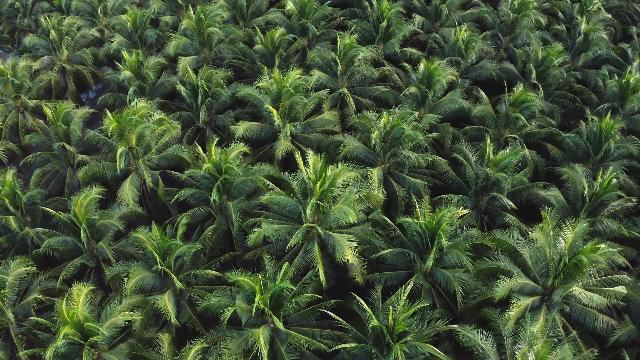trees: (453, 207, 637, 359), (239, 154, 383, 298), (107, 222, 237, 350), (195, 260, 347, 360), (538, 112, 640, 231), (379, 203, 480, 323), (233, 63, 342, 173), (85, 98, 189, 213), (338, 109, 438, 226), (168, 144, 279, 249), (427, 134, 535, 237), (322, 281, 449, 360), (40, 188, 131, 288), (22, 102, 113, 198), (42, 280, 149, 360), (157, 63, 241, 154), (305, 33, 388, 119), (31, 21, 105, 105)
